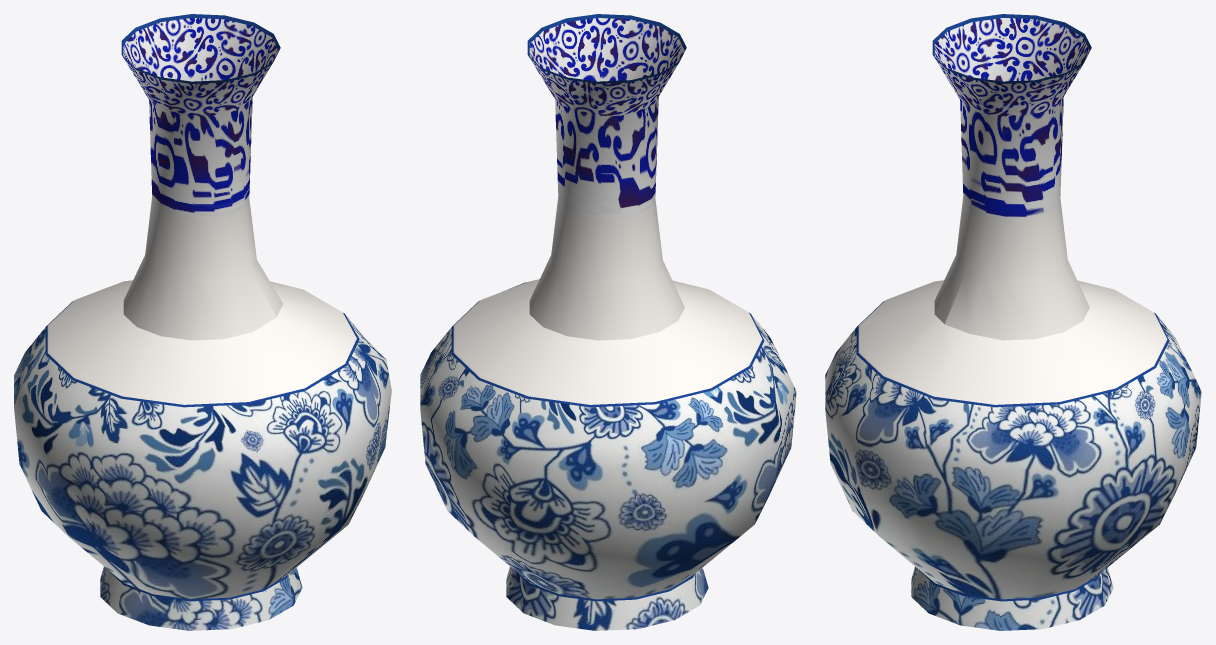
File: ass4.glb
The picture shows the model from 3 angles, left to right: view 1: azimuth 30°, elevation 25°; view 2: azimuth 150°, elevation 25°; view 3: azimuth 270°, elevation 25°; orthographic projection.
Visible parts, largest first — view 1: Cylinder; view 2: Cylinder; view 3: Cylinder.
Boxes of the visible parts, x1,y1,x2,y2 form: Cylinder: (14, 14, 391, 630); Cylinder: (420, 14, 796, 630); Cylinder: (825, 14, 1201, 630).
Bounding box in the file's own units: 0.6035 × 0.95 × 0.6002.
4 materials, 2 textured.
